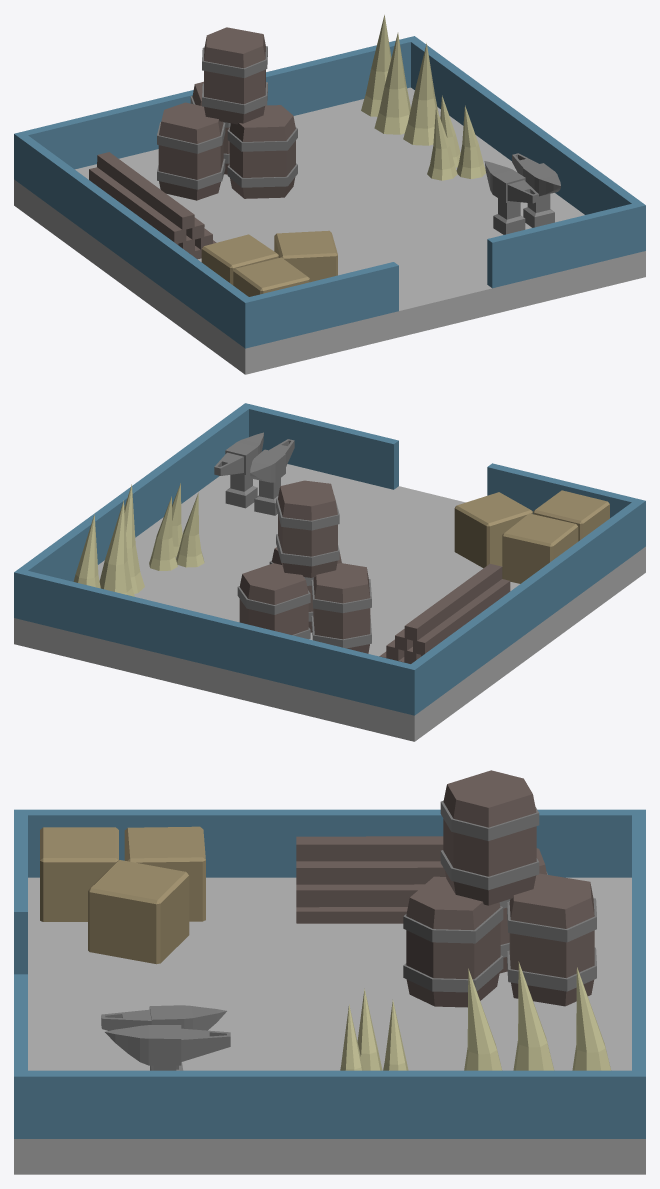
The model's file is Storage Yard TI.fbx.
The picture shows the model from 3 angles, top to bottom: view 1: azimuth 30°, elevation 25°; view 2: azimuth 150°, elevation 25°; view 3: azimuth 270°, elevation 25°; orthographic projection. The views are drawn at different scales.
Visible parts, largest first — view 1: Storage Yard TI; view 2: Storage Yard TI; view 3: Storage Yard TI.
Boxes of the visible parts, x1,y1,x2,y2 form: Storage Yard TI: (14, 15, 645, 374); Storage Yard TI: (14, 403, 645, 741); Storage Yard TI: (14, 770, 645, 1174).
Bounding box in the file's own units: 1600 × 636 × 1600.
